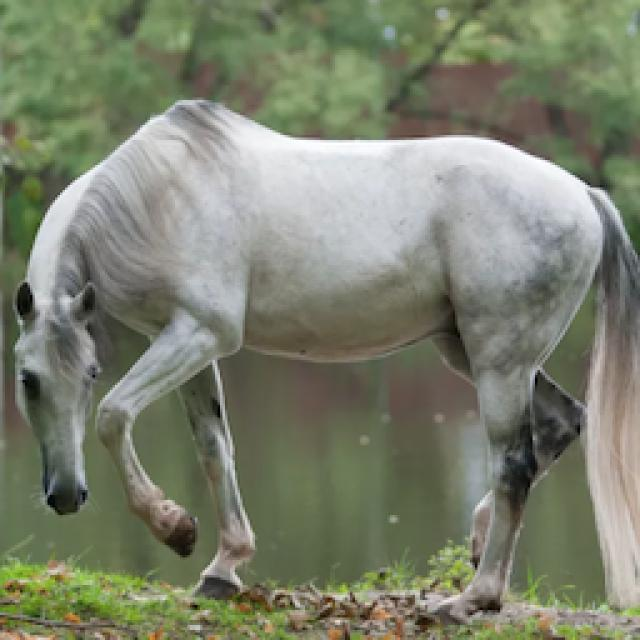Horse: (0, 88, 638, 628)
